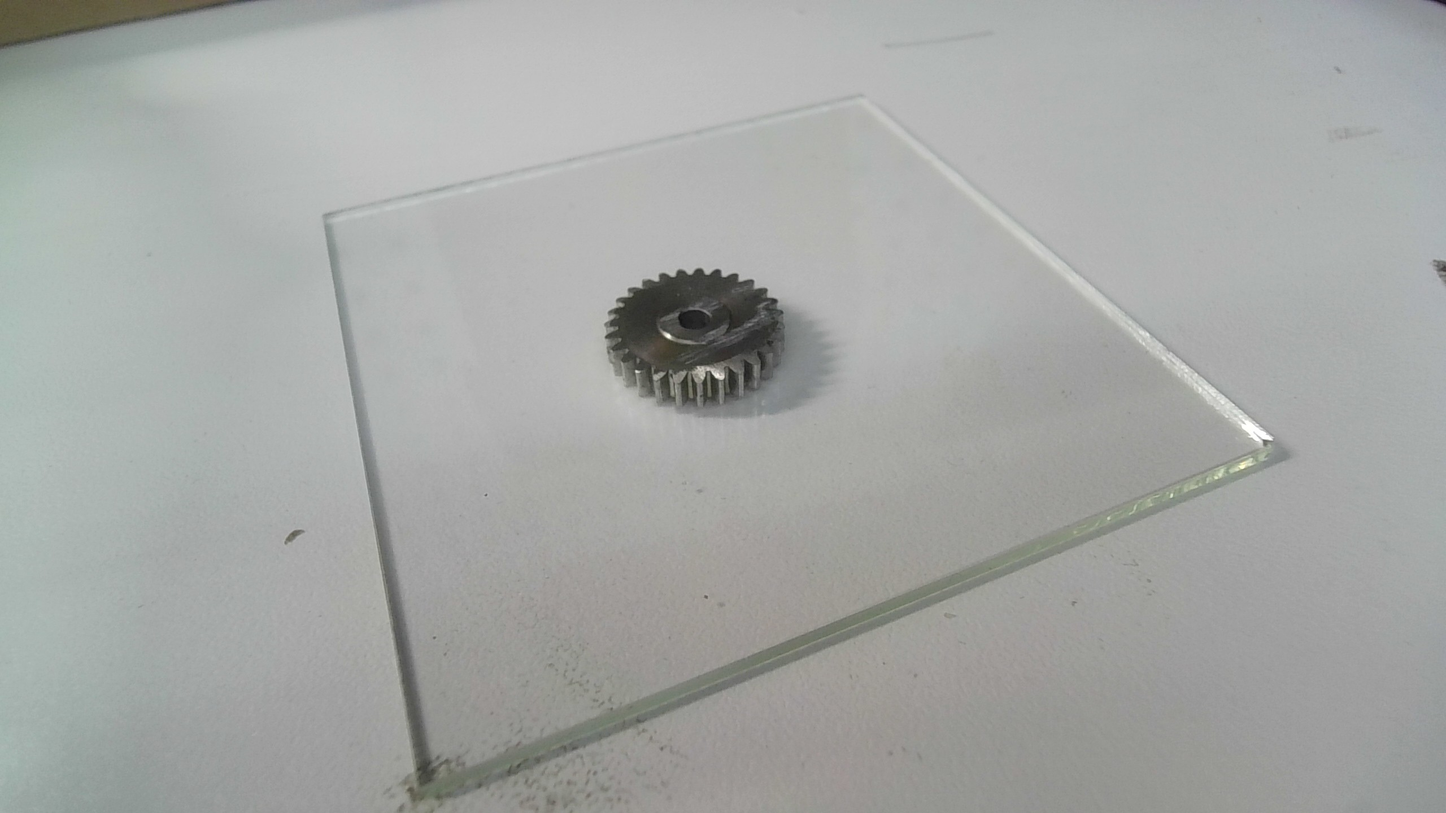gear: (602, 267, 789, 413)
